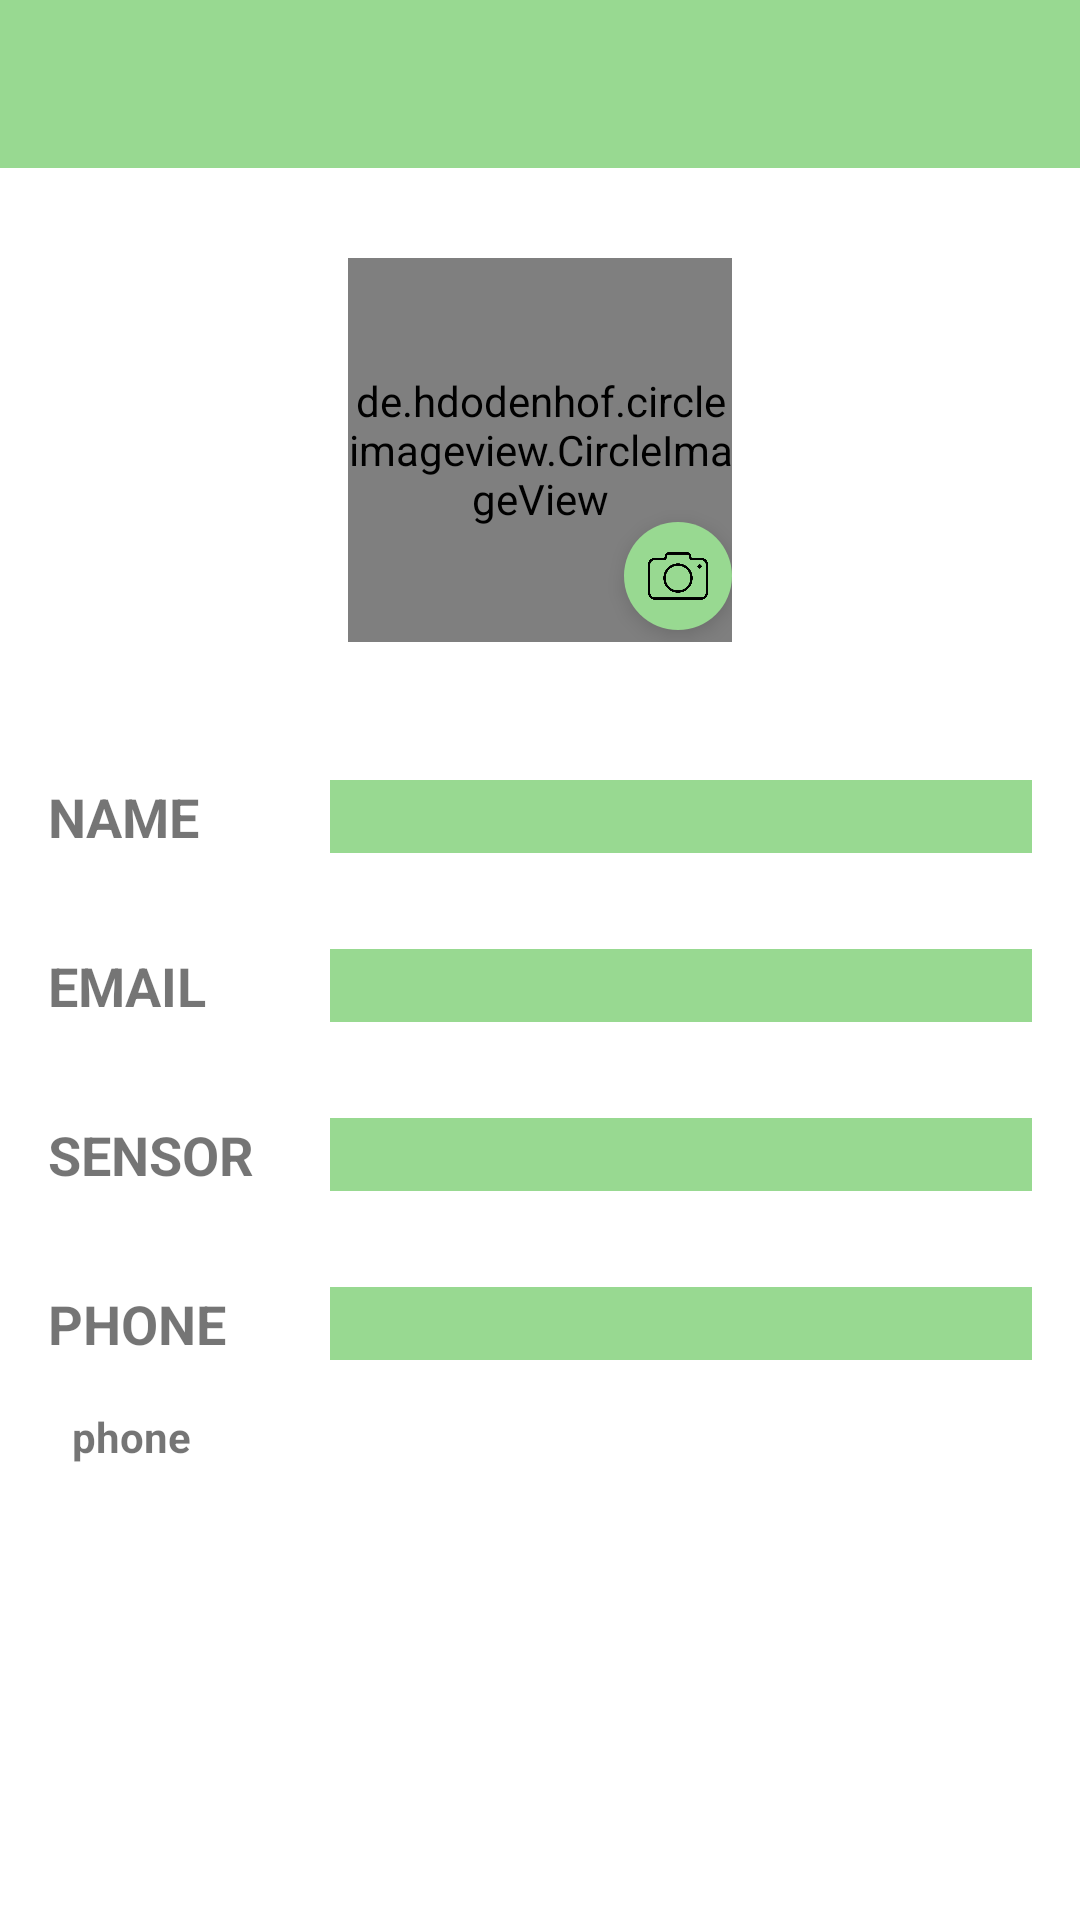

Locate icon controls on the screen. Image size 1080x1920, boxes as (x1, y1, x2, y2).
camera: (624, 522, 732, 630)
